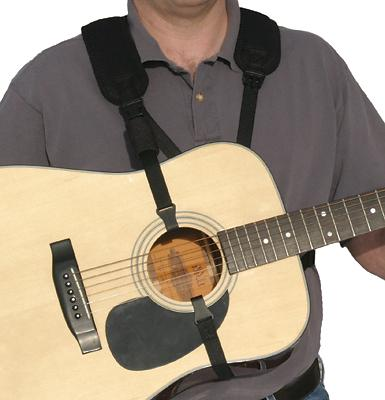guitar: (1, 143, 384, 400)
